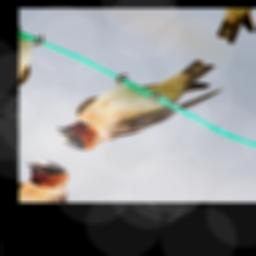Swallow: (48, 29, 237, 183)
